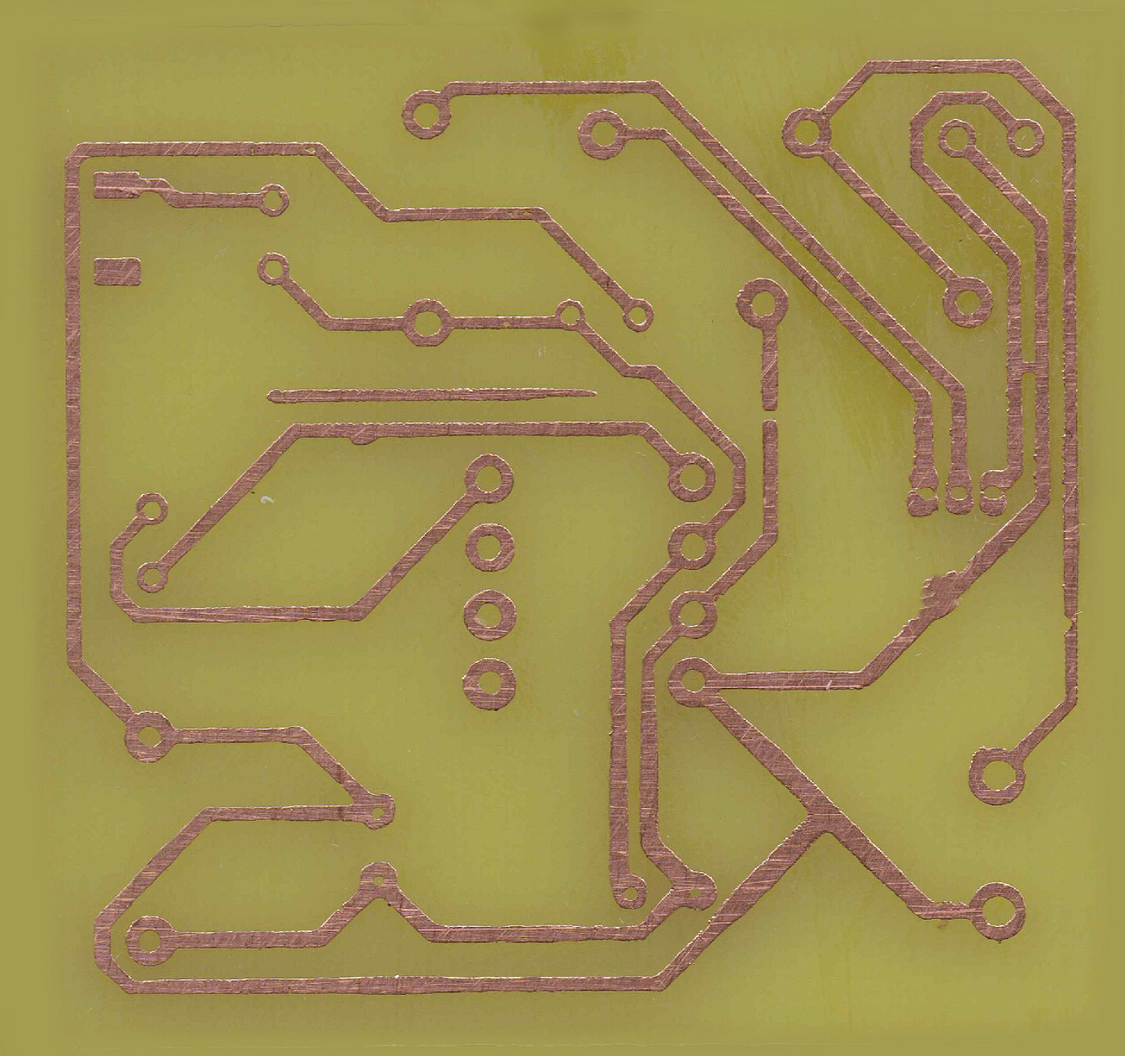missing_hole: (905, 464, 940, 518)
mouse_bite: (1060, 605, 1084, 636)
open_circuit: (757, 399, 785, 429)
short: (1000, 355, 1055, 380)
spur: (913, 565, 973, 620), (347, 416, 384, 449)
spurious_copper: (258, 379, 603, 408)
